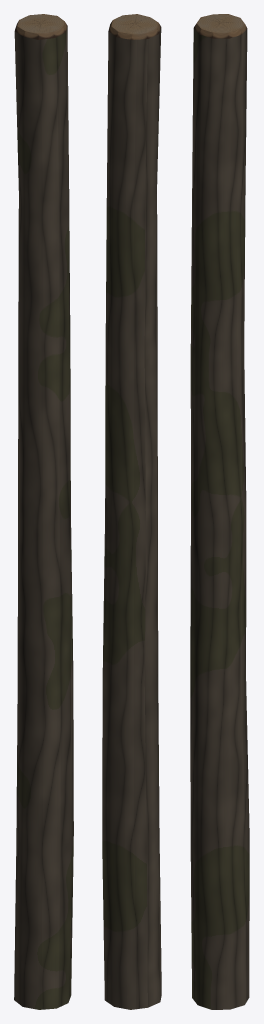
Rendered from S7U_Rev_LogPost.fbx.
3 renders of one model, left to right at view 1: azimuth 30°, elevation 25°; view 2: azimuth 210°, elevation 25°; view 3: azimuth 270°, elevation 25°, orthographic.
Parts seen in each view (by area): view 1: S7U_Rev_LogPost; view 2: S7U_Rev_LogPost; view 3: S7U_Rev_LogPost.
Part boxes in pixels (left/top/right/bottom): S7U_Rev_LogPost: left=14, top=14, right=73, bottom=1009; S7U_Rev_LogPost: left=102, top=14, right=161, bottom=1009; S7U_Rev_LogPost: left=190, top=14, right=249, bottom=1009.
Size of the model in its own units: 0.1386 by 2.56 by 0.1416.
